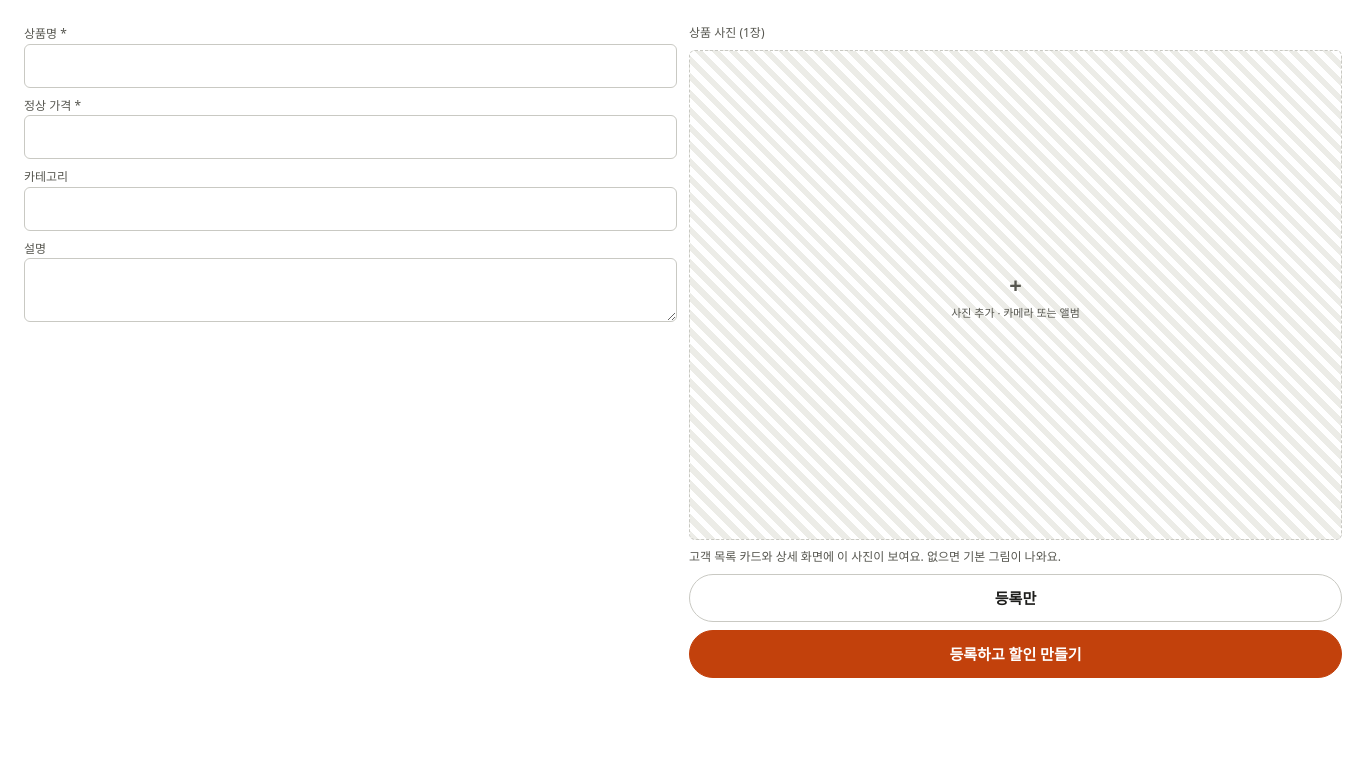
Test: features/products presentation ProductCreateForm › 빈 상태로 제출하면 create가 불리지 않고 이름·가격 칸에 오류가 보인다
The width and height of the screenshot is (1366, 768).
Step 1. Click the button "등록만" → (1016, 598), box [689,574,1342,622]
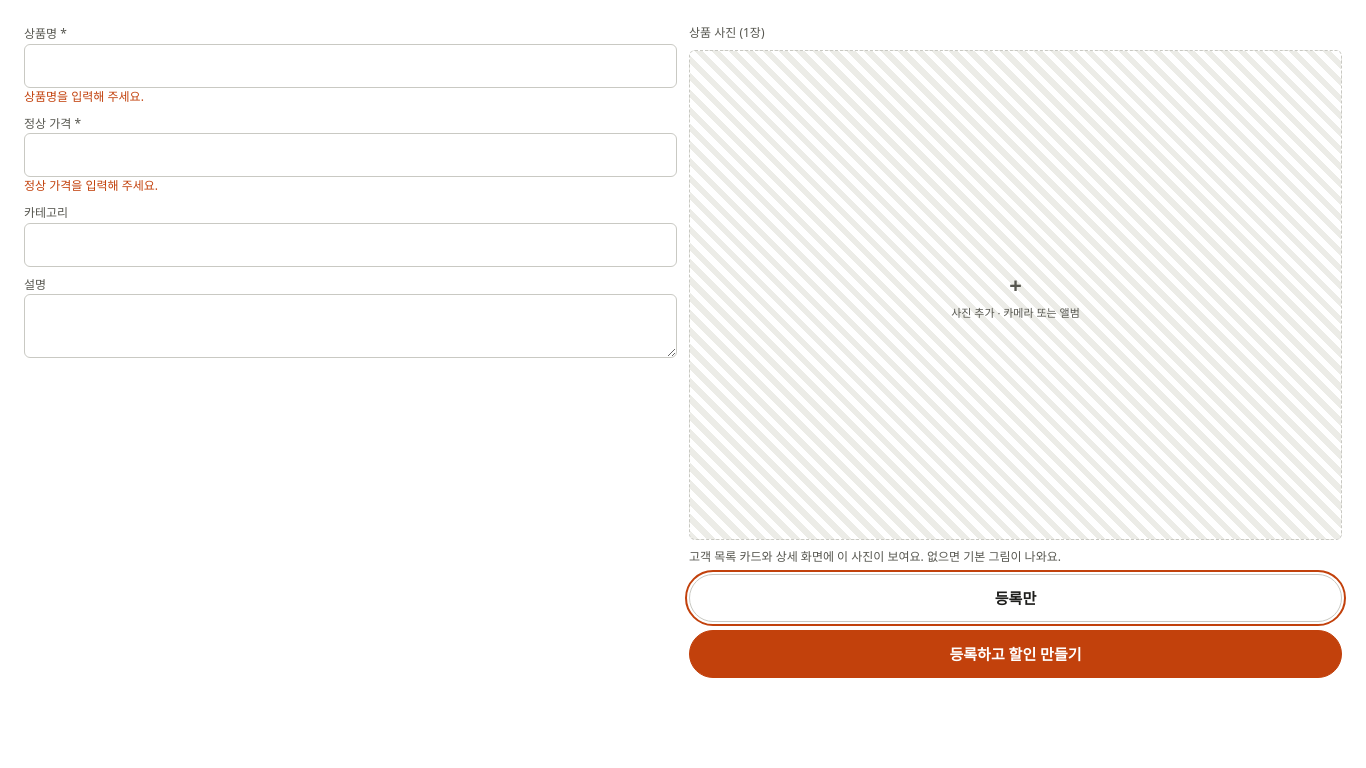
Now the number of messages is 2, box [24,88,144,104]; [24,177,158,194]
